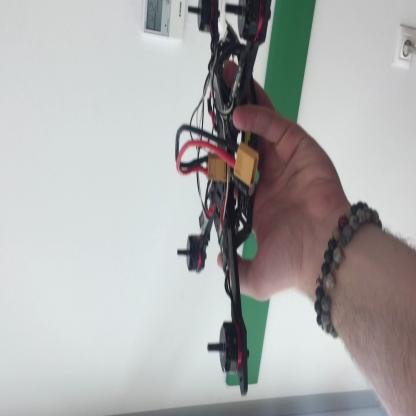drone: (180, 2, 271, 397)
